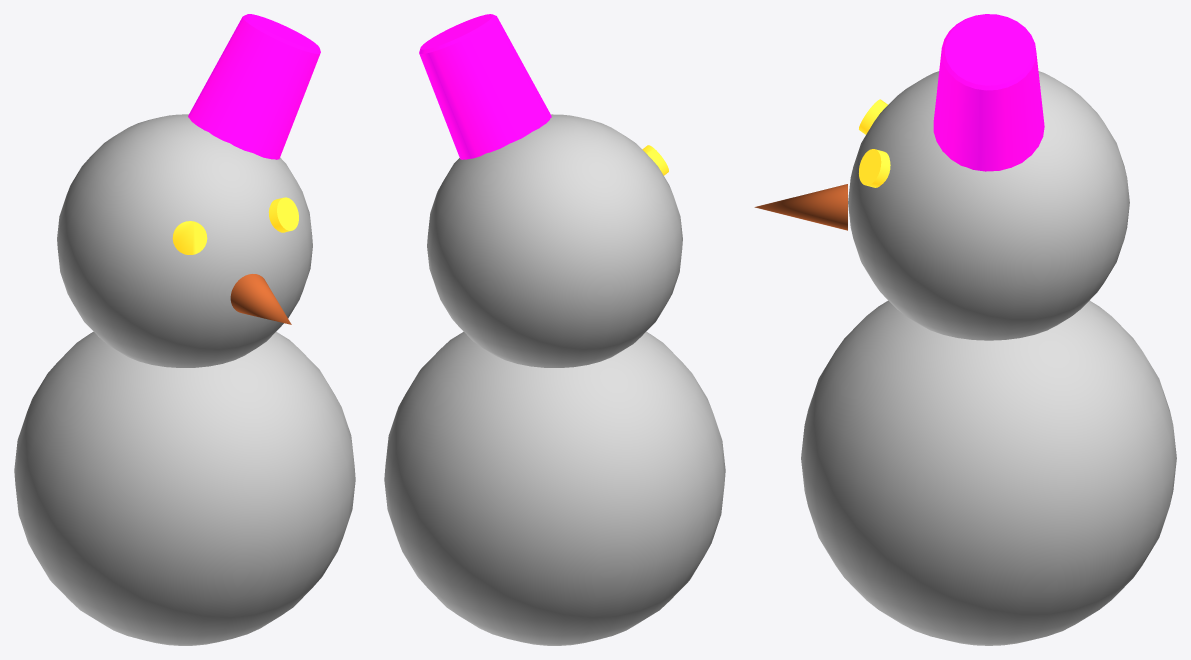
Rendered from Snowman.fbx.
3 renders of one model, left to right at view 1: azimuth 30°, elevation 25°; view 2: azimuth 150°, elevation 25°; view 3: azimuth 270°, elevation 25°, orthographic. The views are drawn at different scales.
Visible parts, largest first — view 1: 球.002, 円柱, 円柱.001, 円錐; view 2: 球.002, 円柱; view 3: 球.002, 円柱, 円錐, 円柱.001.
Part boxes in pixels (x1,y1,x2,y2): 球.002: [14, 114, 355, 645]; 円柱: [188, 14, 320, 159]; 円柱.001: [172, 197, 298, 254]; 円錐: [230, 274, 291, 324]; 球.002: [384, 114, 725, 645]; 円柱: [419, 14, 551, 159]; 球.002: [801, 71, 1176, 645]; 円柱: [933, 14, 1044, 171]; 円錐: [754, 184, 847, 230]; 円柱.001: [859, 99, 890, 187].
Size of the model in its own units: 80 by 153 by 89.99.
